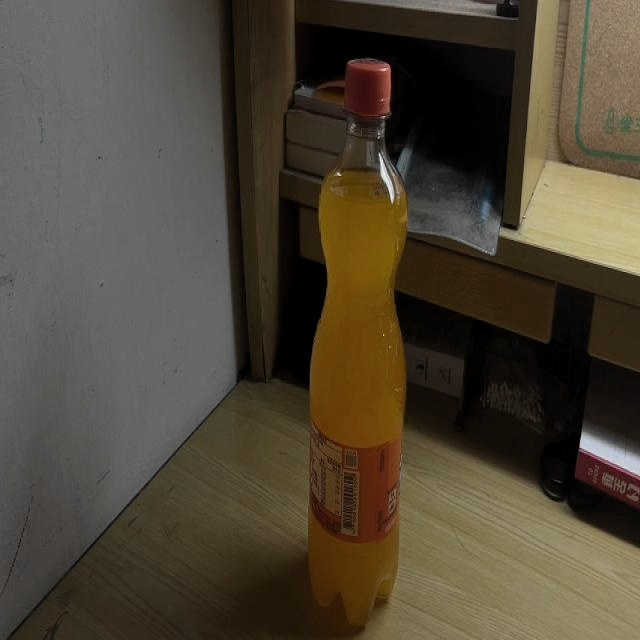Fanta: (309, 55, 408, 629)
